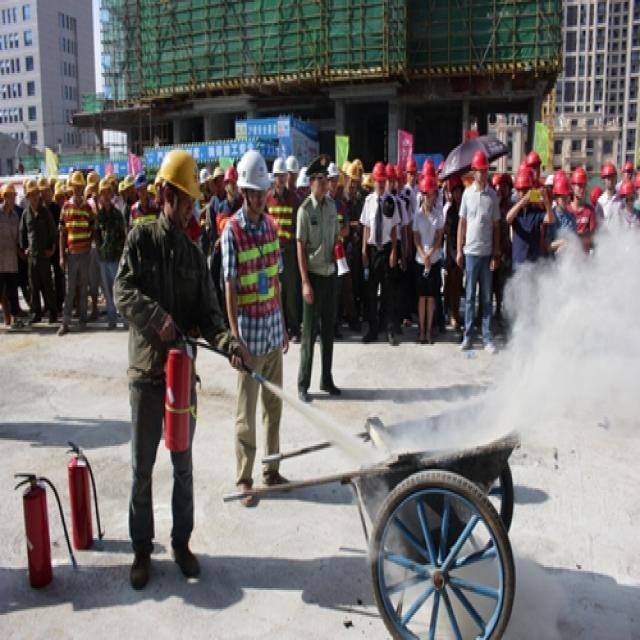Reflective-Jacket: (229, 212, 282, 316), (62, 200, 92, 252)
Safety-Helmet: (155, 150, 202, 200), (234, 148, 272, 192), (552, 169, 572, 198), (471, 148, 489, 171), (271, 156, 288, 177), (69, 169, 86, 188), (2, 183, 16, 198)
